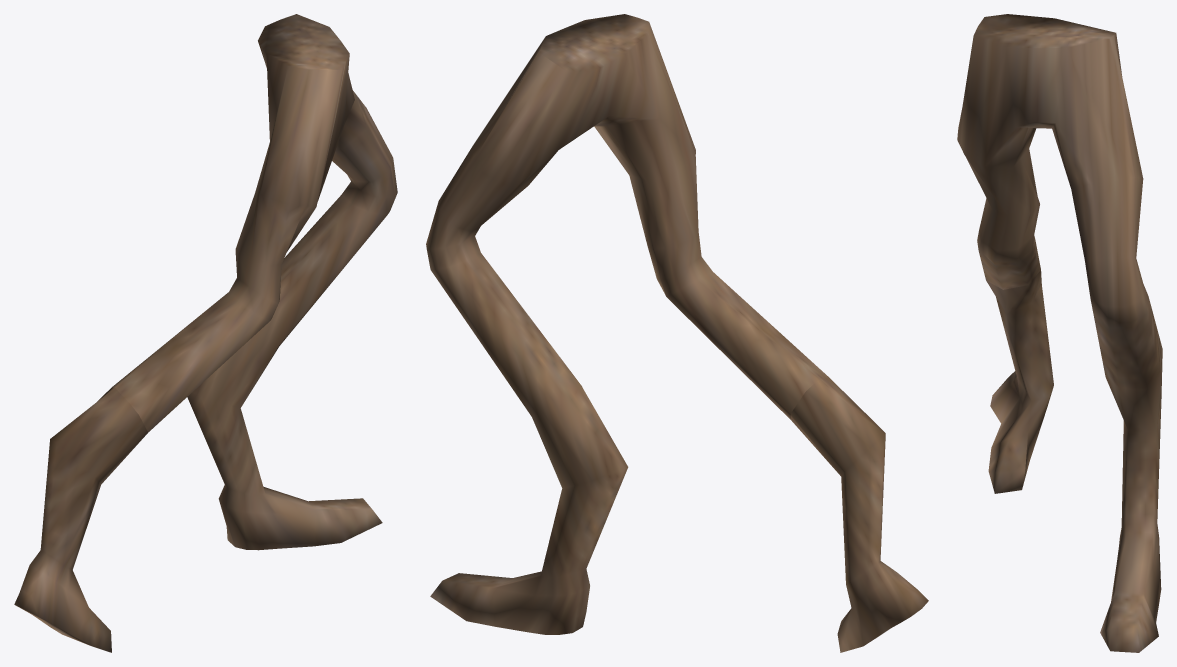
Rendered from demon_legs_000001.obj.
3 renders of one model, left to right at view 1: azimuth 30°, elevation 25°; view 2: azimuth 150°, elevation 25°; view 3: azimuth 270°, elevation 25°, orthographic. The views are drawn at different scales.
Visible parts, largest first — view 1: Legs; view 2: Legs; view 3: Legs.
Boxes of the visible parts, <box> form: Legs: <box>14,14,397,652</box>; Legs: <box>426,14,928,652</box>; Legs: <box>957,14,1162,652</box>.
Bounding box in the file's own units: 5.05 × 6.17 × 1.98.
Materials: 1 (1 with a texture image).
